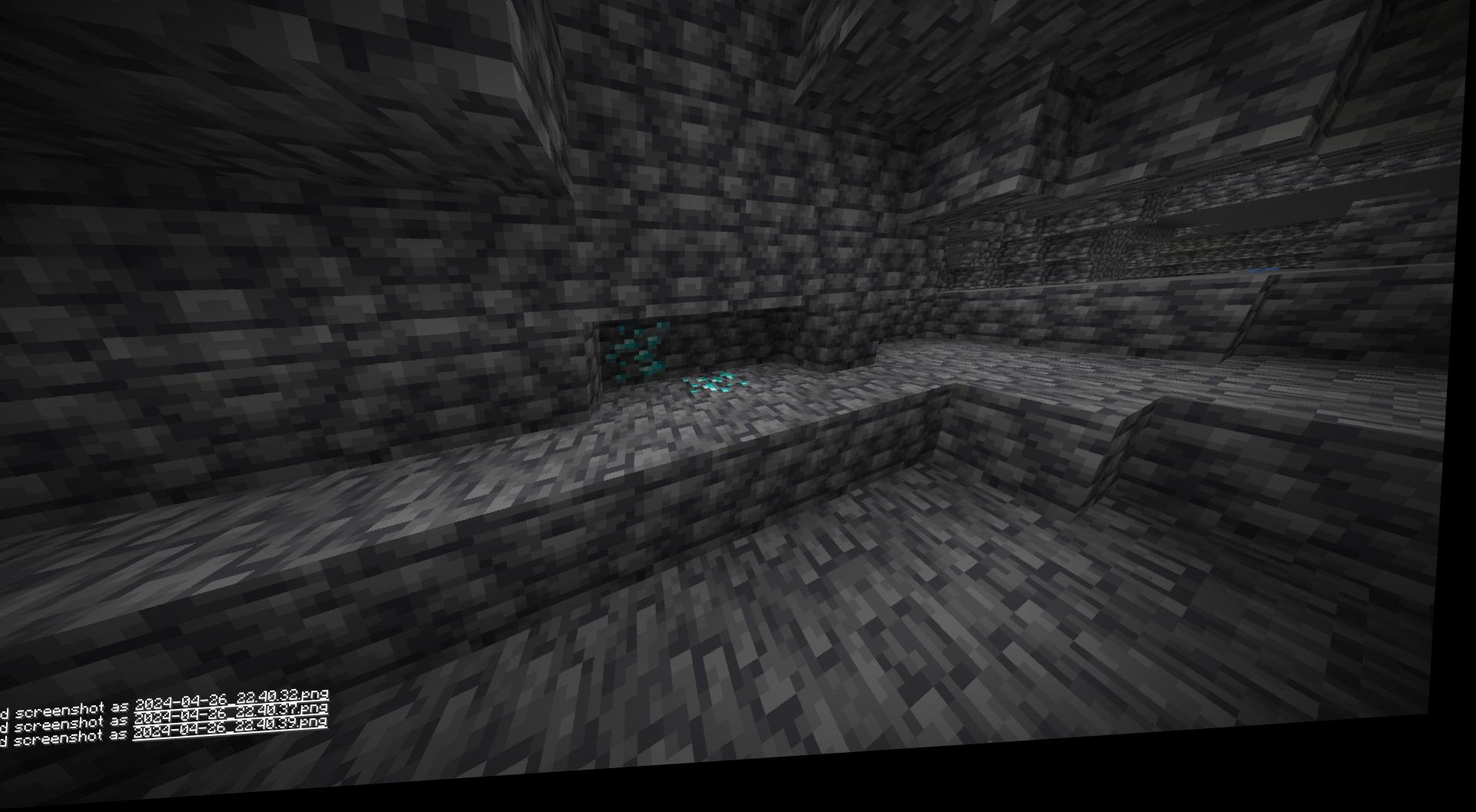diamond ore: (604, 332, 675, 391), (676, 373, 759, 411)
